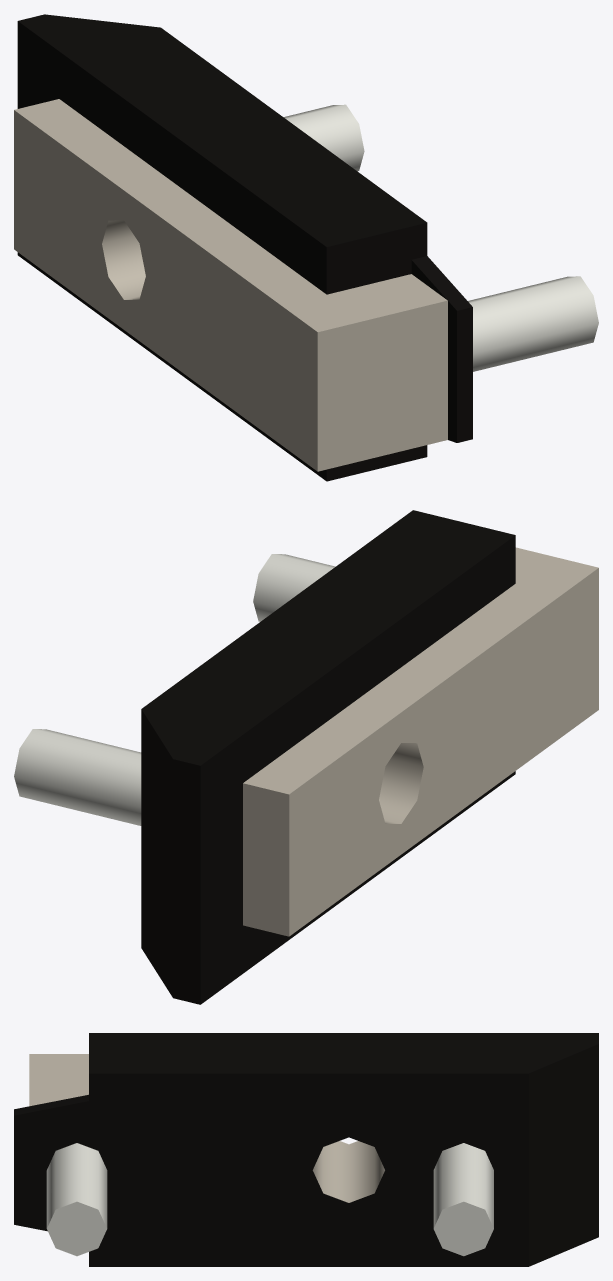
3 views of the same model, one above another, from view 1: azimuth 30°, elevation 25°; view 2: azimuth 150°, elevation 25°; view 3: azimuth 270°, elevation 25° (orthographic). The views are drawn at different scales.
Parts seen in each view (by area): view 1: bau0027290239; view 2: bau0027290239; view 3: bau0027290239.
Part boxes in pixels (<box>): bau0027290239: <box>14,14,598,481</box>; bau0027290239: <box>14,510,598,1004</box>; bau0027290239: <box>14,1033,598,1266</box>.
Size of the model in its own units: 23 by 17.65 by 48.4.
